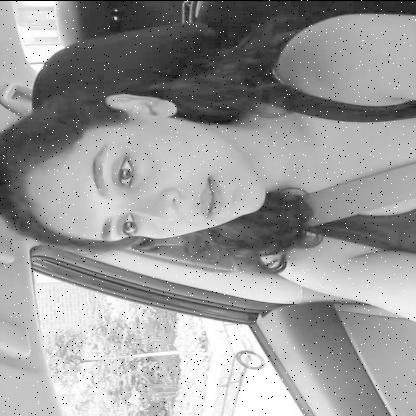seatbelt: (0, 92, 416, 256)
